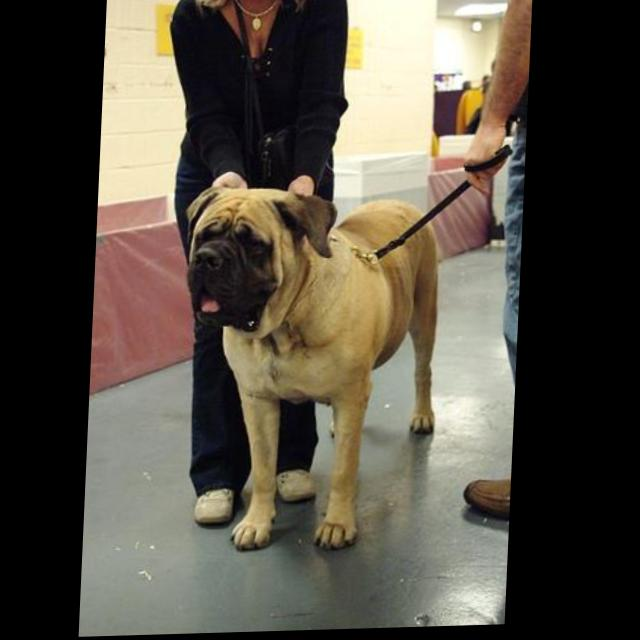bullmastiff: (177, 180, 451, 557)
person: (153, 1, 354, 529), (454, 1, 534, 526)
